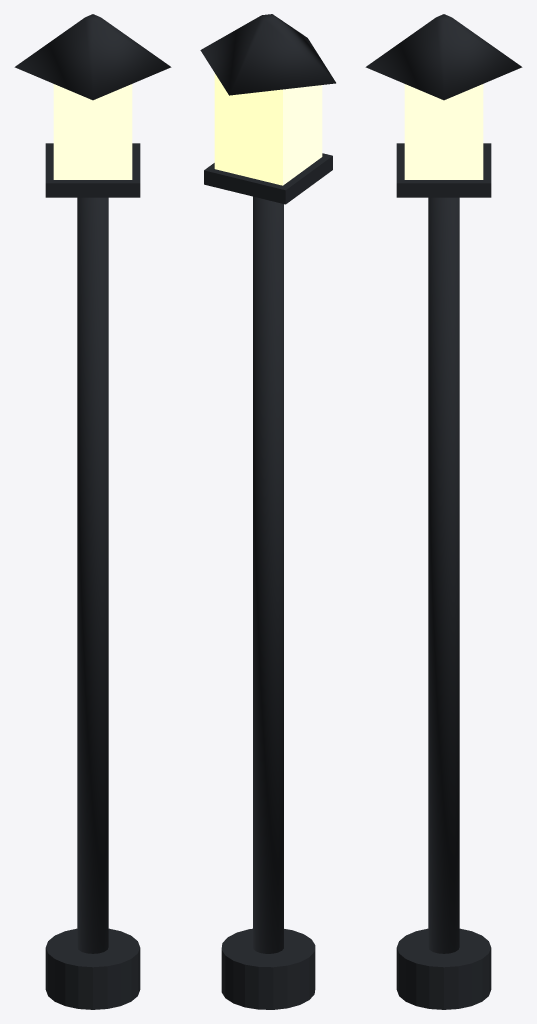
The model's file is farol.glb.
3 views of the same model, side by side, from view 1: azimuth 90°, elevation 25°; view 2: azimuth 150°, elevation 25°; view 3: azimuth 270°, elevation 25° (orthographic).
Parts seen in each view (by area): view 1: Cylinder.001, luz, Cone, Cylinder, Cube; view 2: Cylinder.001, luz, Cone, Cylinder, Cube; view 3: Cylinder.001, luz, Cone, Cylinder, Cube.
Part boxes in pixels (x1,y1,x2,y2): Cylinder.001: (77,197,108,953); luz: (53,84,132,179); Cone: (14,14,171,100); Cylinder: (45,928,140,1009); Cube: (45,143,140,197); Cylinder.001: (253,196,283,953); luz: (214,73,322,185); Cone: (200,14,335,95); Cylinder: (221,928,315,1009); Cube: (204,153,332,204); Cylinder.001: (428,197,459,953); luz: (404,84,483,179); Cone: (365,14,522,100); Cylinder: (396,928,491,1009); Cube: (396,143,491,197).
Size of the model in its own units: 0.4 by 2.73 by 0.4.
